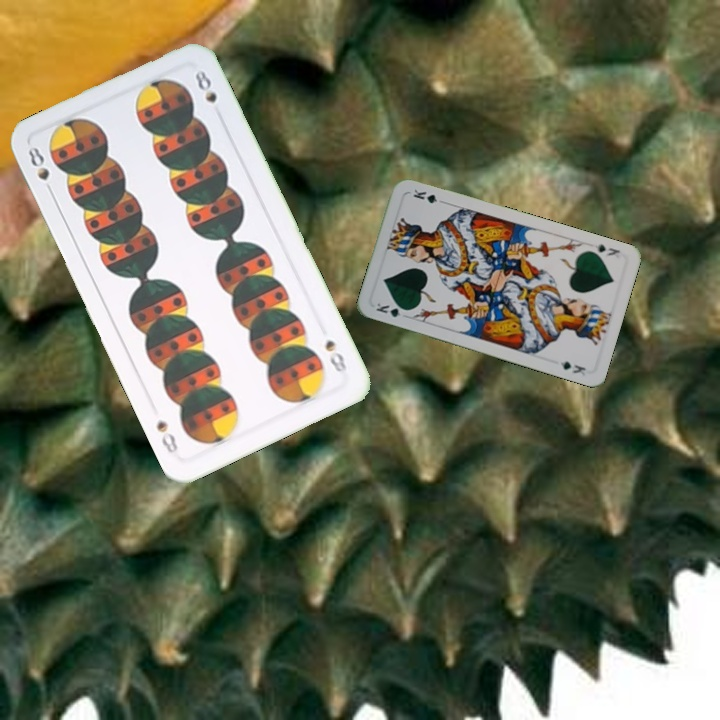GK: (372, 299, 412, 320), (589, 240, 622, 259)
S8: (320, 335, 351, 378), (24, 142, 52, 183)
